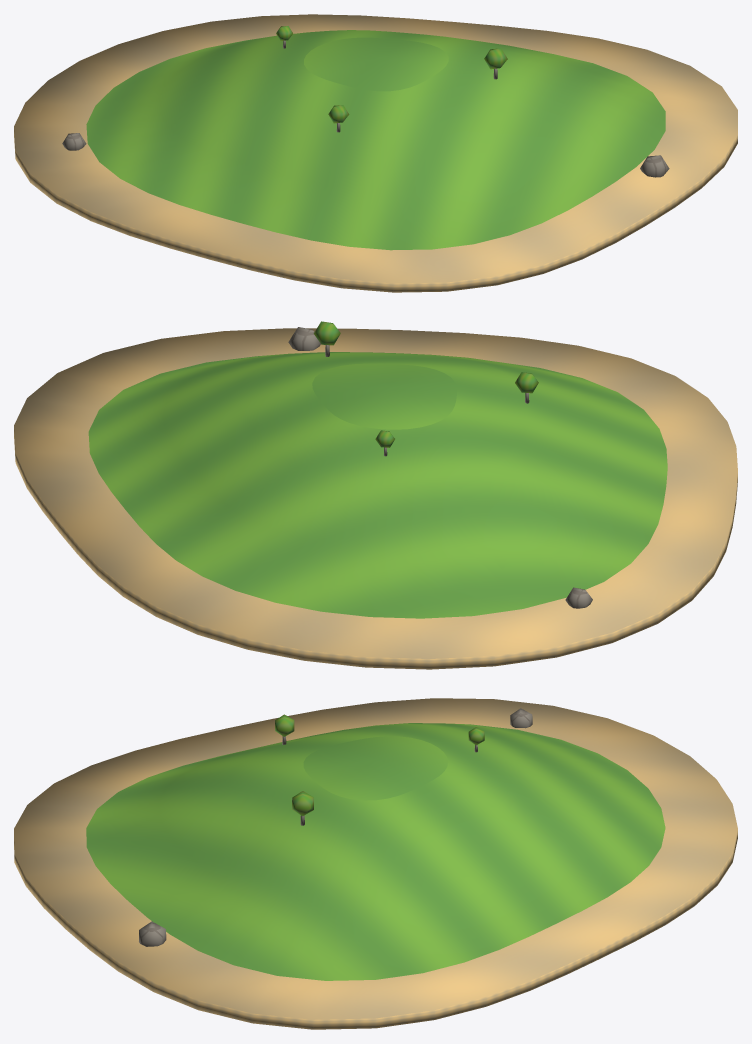
Rendered from ISL-M_LOD1.fbx.
3 views of the same model, one above another, from view 1: azimuth 30°, elevation 25°; view 2: azimuth 150°, elevation 25°; view 3: azimuth 270°, elevation 25° (orthographic). The views are drawn at different scales.
Visible parts, largest first — view 1: ISL-M_LOD1; view 2: ISL-M_LOD1; view 3: ISL-M_LOD1.
Boxes of the visible parts, x1=… form: ISL-M_LOD1: x1=14, y1=14, x2=737, y2=292; ISL-M_LOD1: x1=14, y1=321, x2=737, y2=669; ISL-M_LOD1: x1=14, y1=698, x2=737, y2=1029.
Bounding box in the file's own units: 104 × 99.29 × 17.31.
